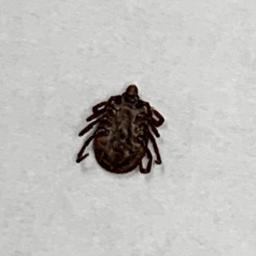Rhipicephalus sanguineus: (76, 84, 165, 174)
